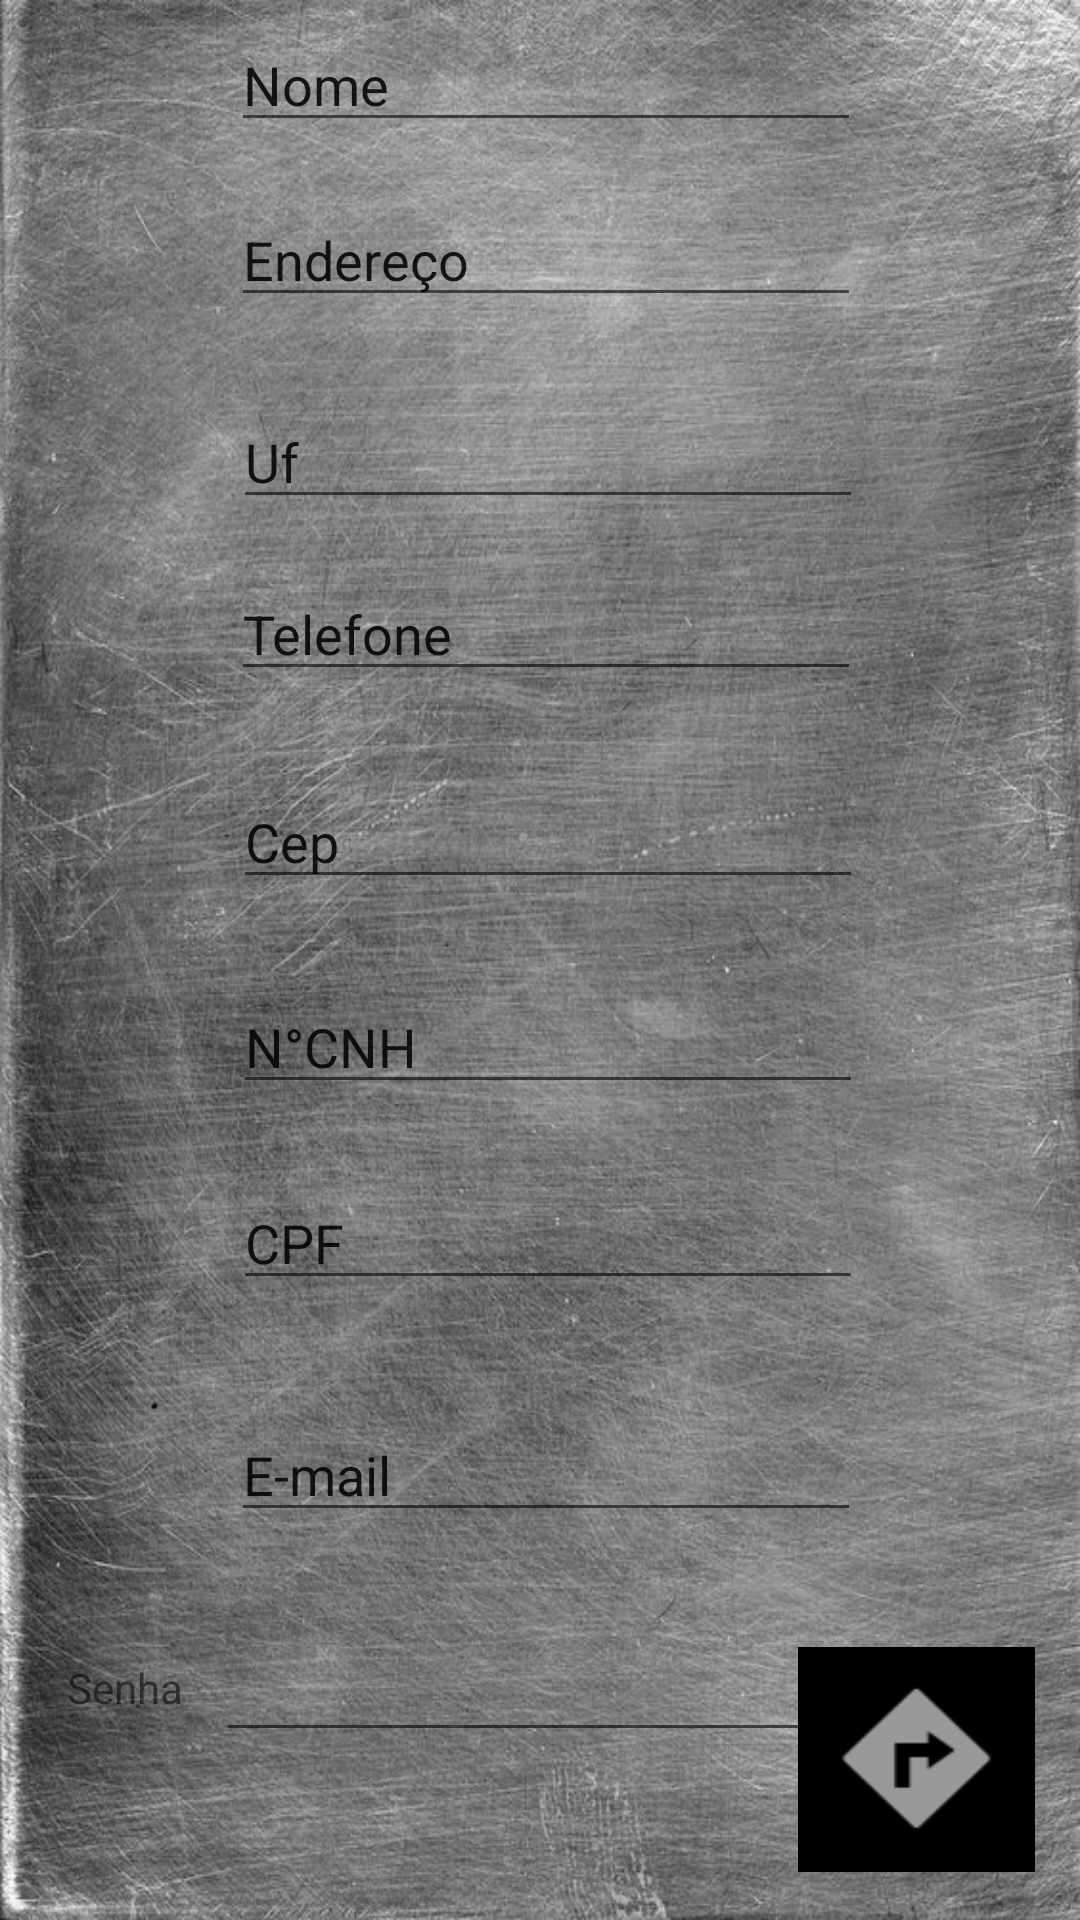

Where icons sit on this 1080×1920 app screen, as (x1, y1, x2, y2):
directions: (798, 1647, 1035, 1872)
